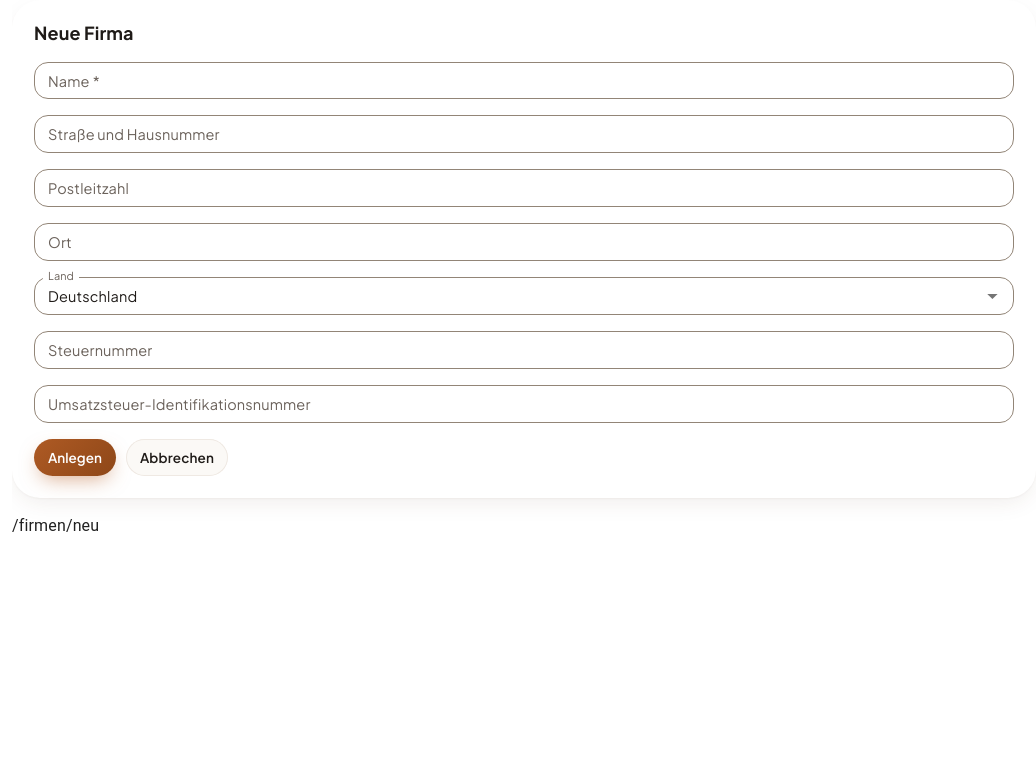
Test: FirmaMaske — Anlegen › haengt die Meldung des Servers an ihr Feld
Type "Beispiel GmbH" into the field labelled "Name" at (524, 80), box top-left (34, 62), bottom-right (1014, 99)
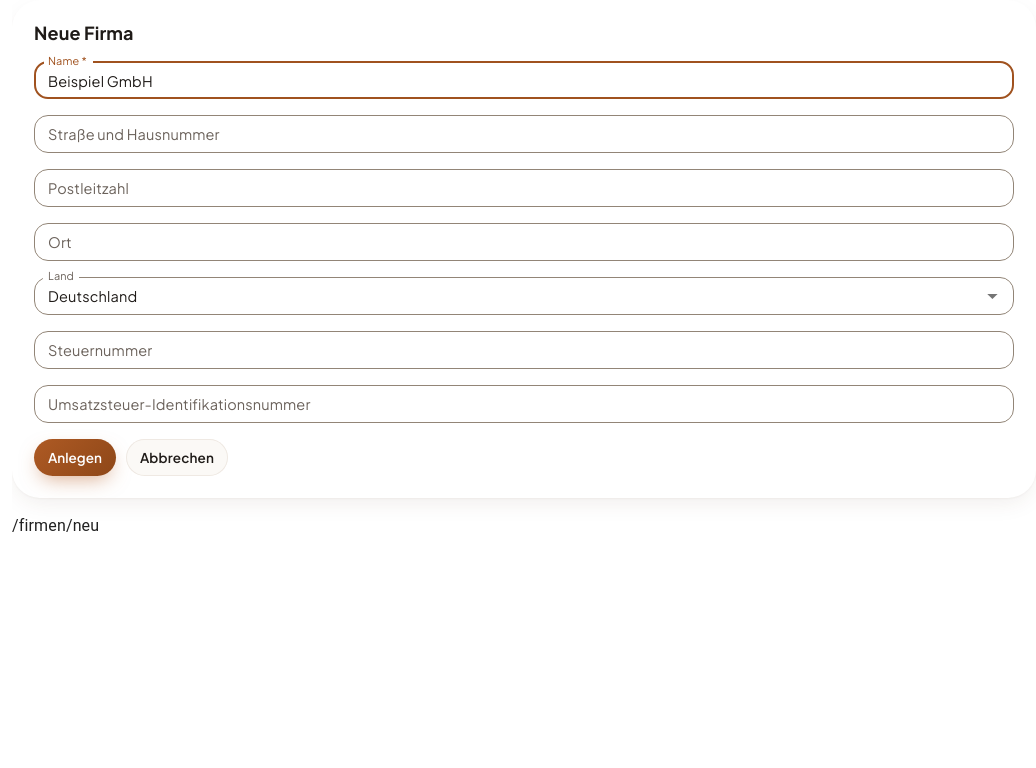
Click the button "Anlegen" at (75, 457), box top-left (34, 438), bottom-right (116, 476)
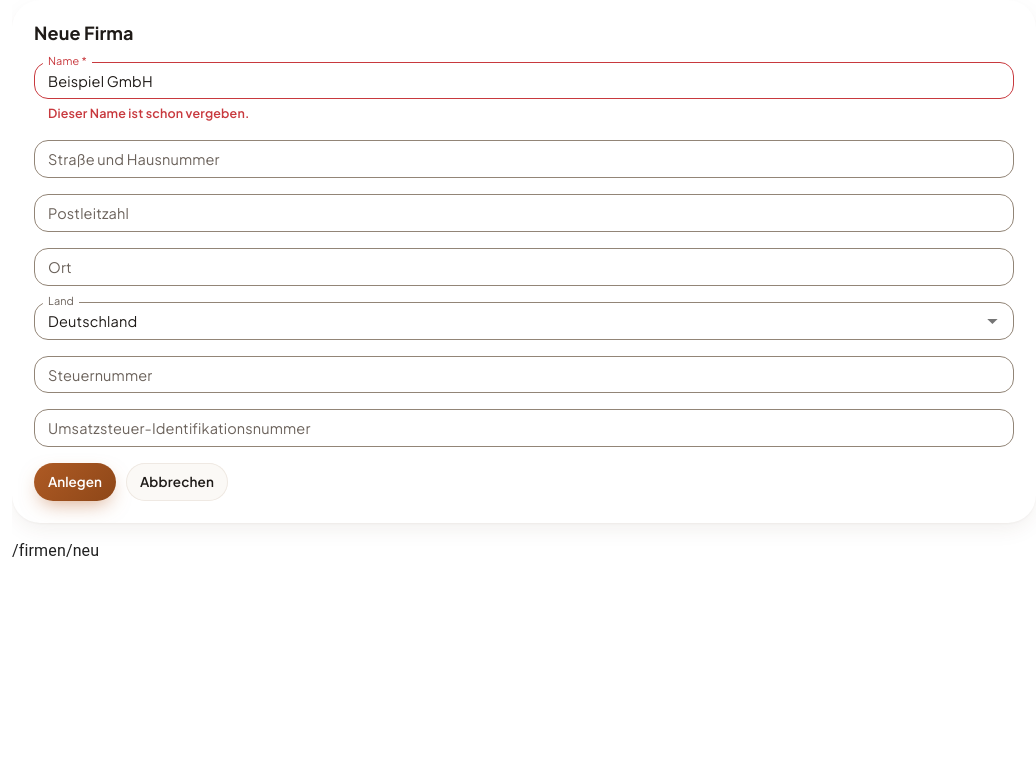
Expected: the text with test id "adresse" reads "/firmen/neu", top-left (12, 541), bottom-right (99, 560)
Expected: the text "Dieser Name ist schon vergeben." is shown, top-left (48, 105), bottom-right (249, 121)
